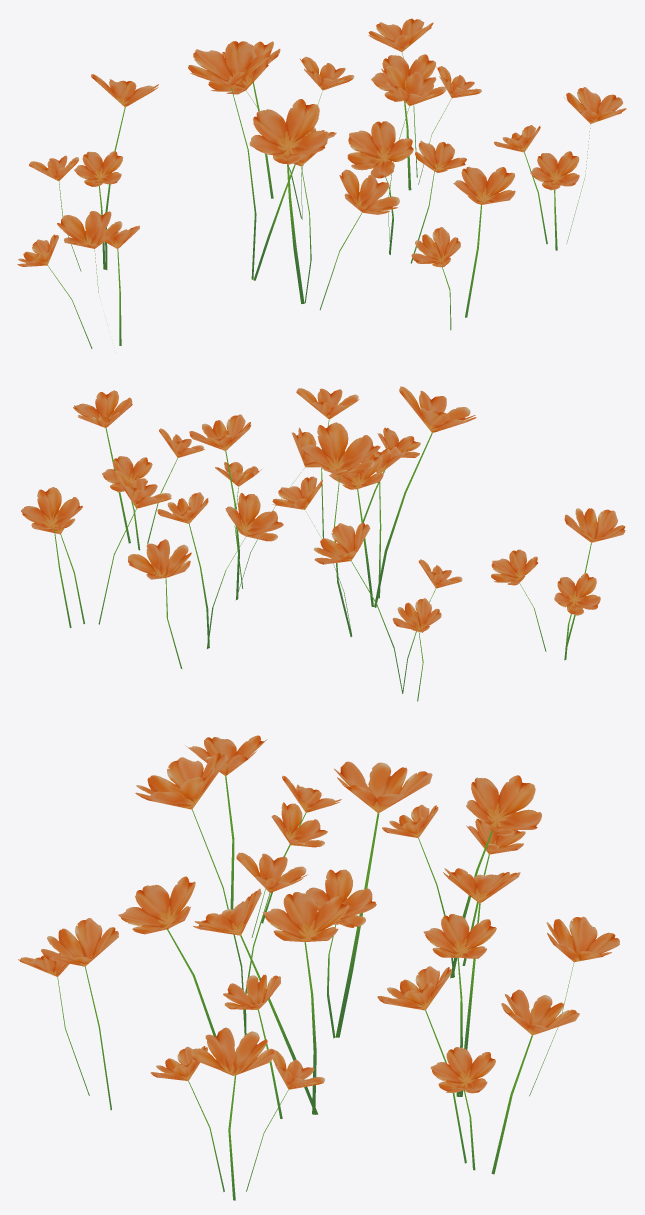
File: SM_FlowerGroup_06.fbx
The picture shows the model from 3 angles, top to bottom: view 1: azimuth 30°, elevation 25°; view 2: azimuth 150°, elevation 25°; view 3: azimuth 270°, elevation 25°; orthographic projection. The views are drawn at different scales.
Parts seen in each view (by area): view 1: SM_FlowerGroup_06; view 2: SM_FlowerGroup_06; view 3: SM_FlowerGroup_06.
Boxes of the visible parts, x1,y1,x2,y2 form: SM_FlowerGroup_06: (17,18,626,348); SM_FlowerGroup_06: (21,386,625,701); SM_FlowerGroup_06: (18,735,619,1200).
Size of the model in its own units: 280 by 101 by 208.
